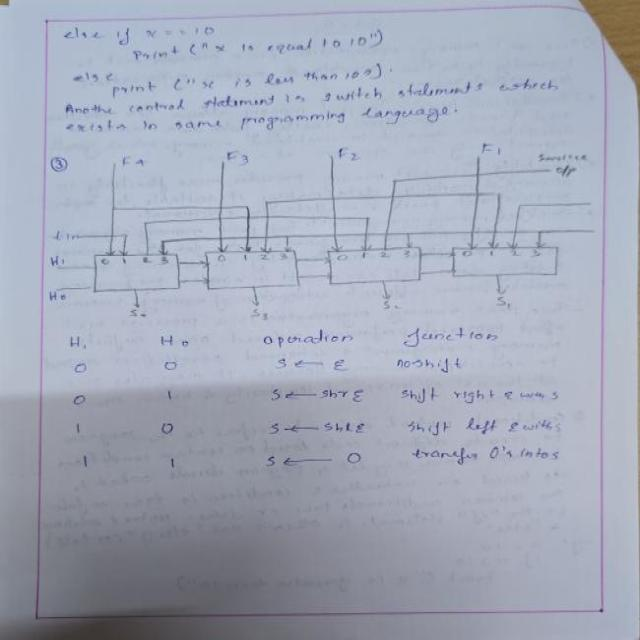Figure Detection - v3 Dataset Version2: (43, 134, 600, 323)
